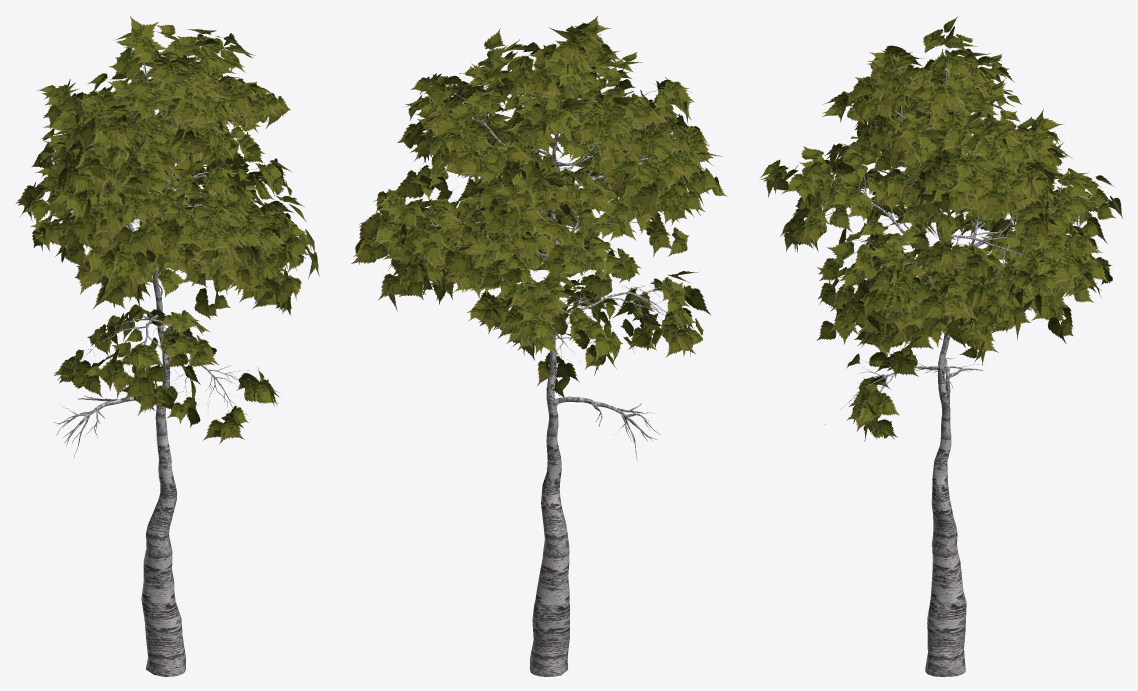
Rendered from tree_aspen_lod1.glb.
3 views of the same model, side by side, from view 1: azimuth 30°, elevation 25°; view 2: azimuth 150°, elevation 25°; view 3: azimuth 270°, elevation 25° (orthographic). The views are drawn at different scales.
Parts seen in each view (by area): view 1: aspen2_LOD1; view 2: aspen2_LOD1; view 3: aspen2_LOD1.
Part boxes in pixels (<box>): aspen2_LOD1: <box>15,15,319,676</box>; aspen2_LOD1: <box>351,16,727,676</box>; aspen2_LOD1: <box>759,16,1122,676</box>.
Size of the model in its own units: 3.75 by 7.58 by 3.92.
Materials: 2 (2 with a texture image).
